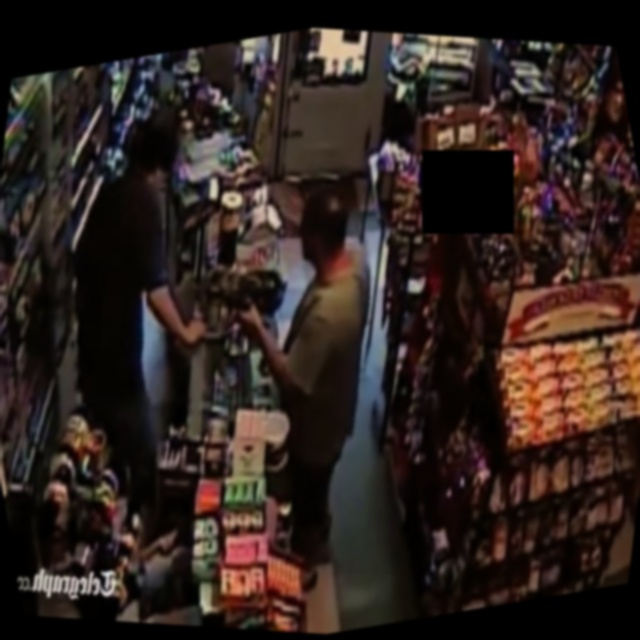gun: (201, 272, 264, 322)
